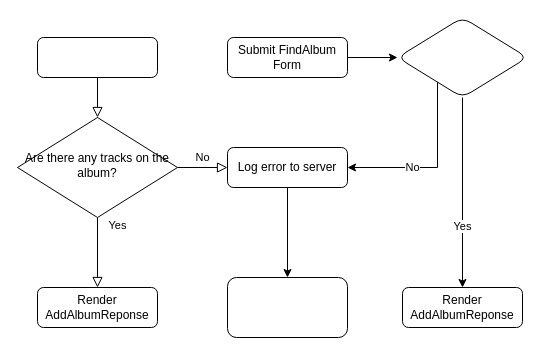
Some shapes in this 545 by 355 pixel diagram are drawn without their labels. The shapes that lost their labels are listed below. From the top down, each one's centre as x and y in pixels, then its label:
At pixel 97 57: "Submit AddAlbum Form".
At pixel 462 57: "Does a match exist?".
At pixel 287 307: "Render Exception message and stack details".
